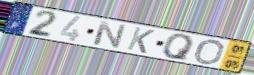2: (28, 10, 59, 39)
4: (58, 15, 83, 43)
K: (125, 26, 157, 55)
N: (91, 19, 128, 50)
O: (192, 38, 227, 66)
Q: (161, 34, 196, 62)
